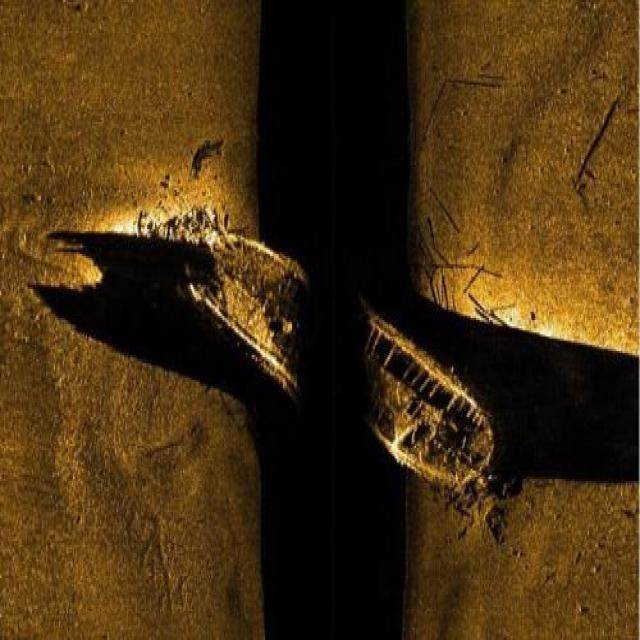shipwreck: (138, 198, 493, 498)
